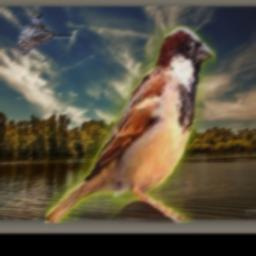Sparrow: (45, 25, 217, 223), (14, 14, 75, 56)
